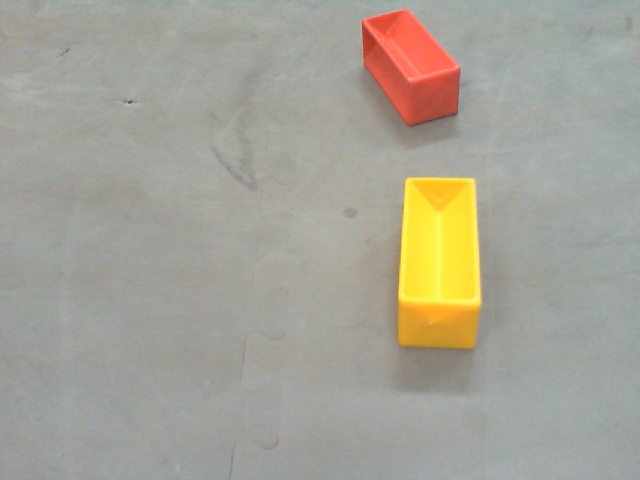RedSample: (362, 7, 462, 126)
YellowSample: (402, 177, 478, 345)
